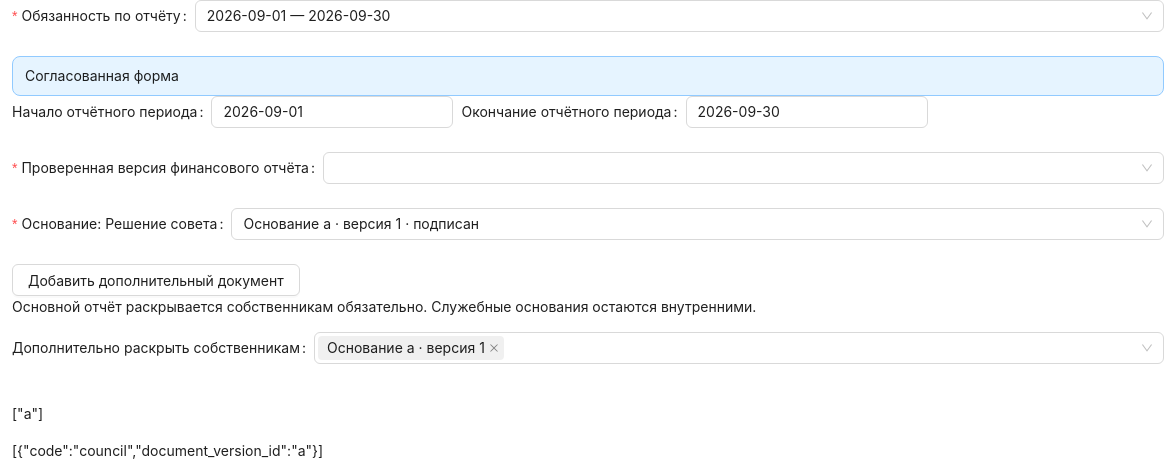
Scenario: замена основания удаляет прежнее приложение из раскрываемого комплекта
Expected: the text with test id "disclosed" reads "[\"a\"]", [12,405,43,422]
Press the mouse on the dropdown labelled "Основание: Решение совета" at coordinates (689, 224), box [243,209,1134,239]
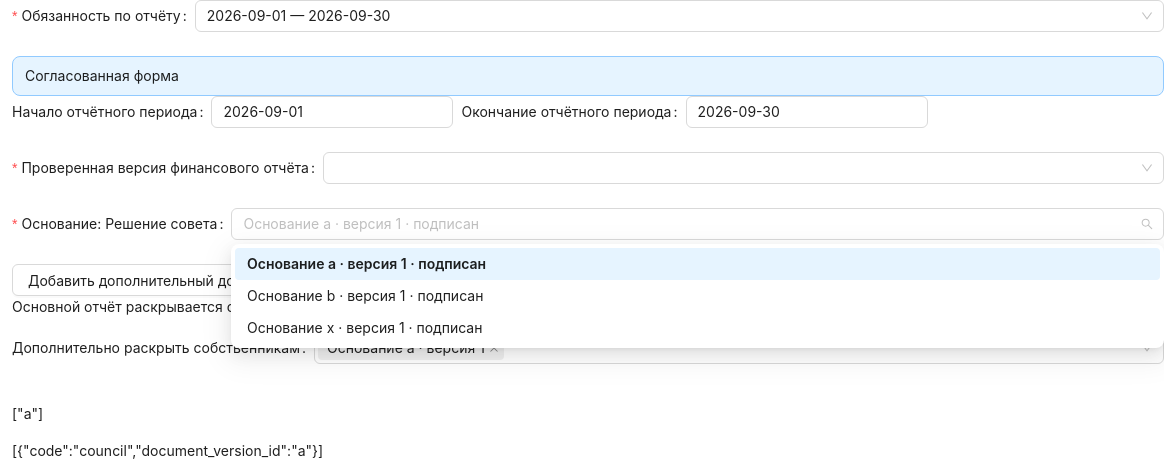
Click the text "Основание b · версия 1 · подписан" at coordinates (365, 296), box [247,287,483,304]
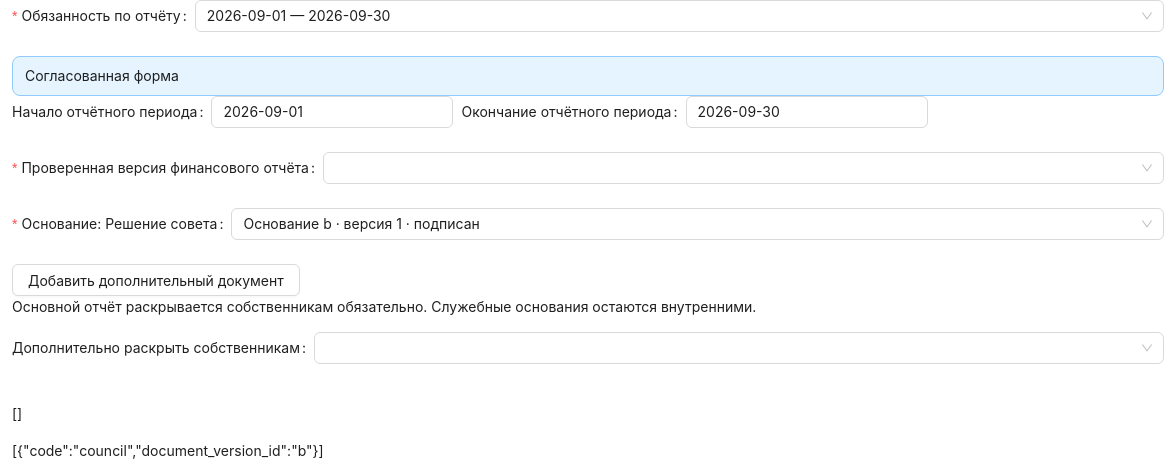
Expected: the text with test id "disclosed" reads "[]", [12,405,22,422]
